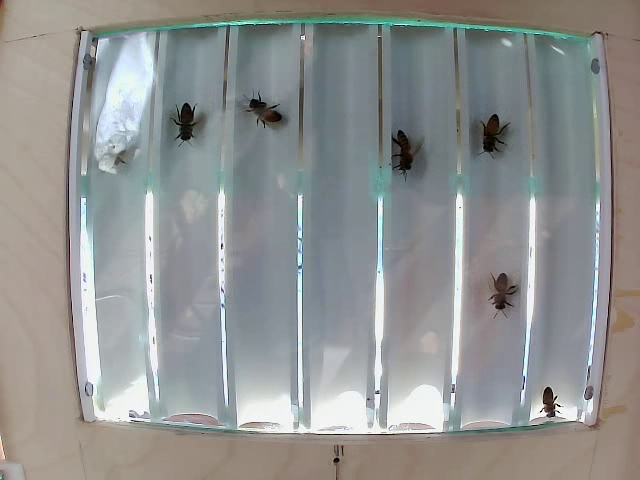bee: (168, 100, 208, 150), (478, 105, 511, 164), (385, 129, 426, 176), (239, 93, 291, 126), (487, 268, 513, 313)
